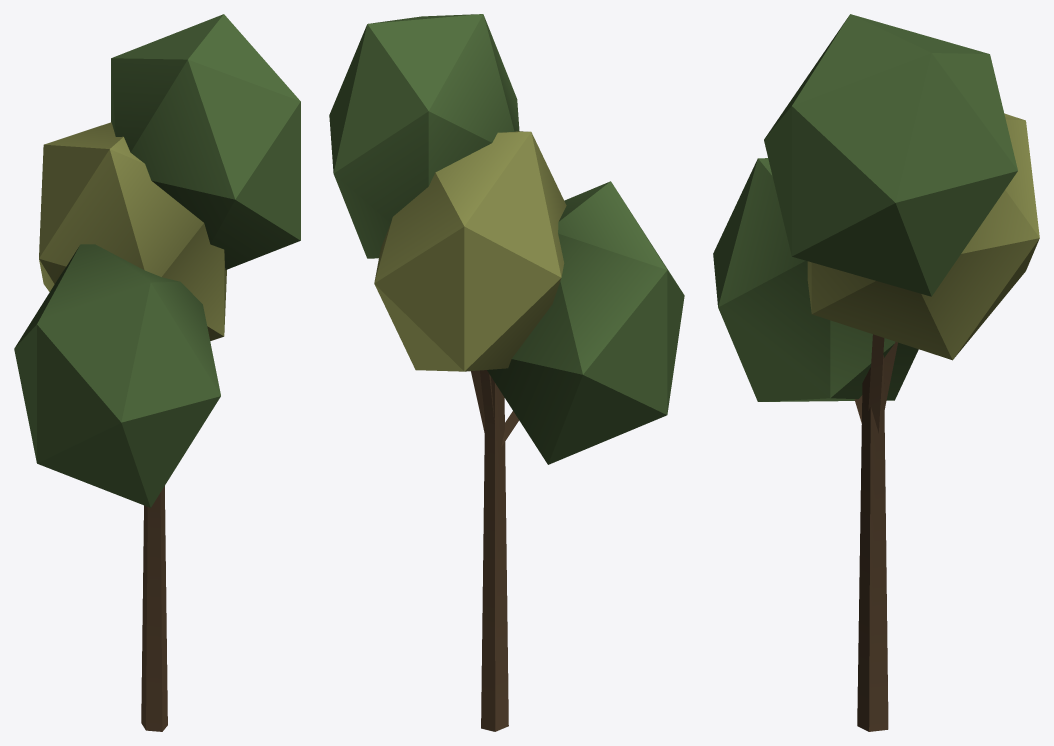
The model's file is tree-gum-2.glb.
3 renders of one model, left to right at view 1: azimuth 30°, elevation 25°; view 2: azimuth 150°, elevation 25°; view 3: azimuth 270°, elevation 25°, orthographic. The views are drawn at different scales.
Visible parts, largest first — view 1: tree-gum-2; view 2: tree-gum-2; view 3: tree-gum-2.
Part boxes in pixels (x1,y1,x2,y2): tree-gum-2: (14, 14, 300, 731); tree-gum-2: (329, 14, 684, 731); tree-gum-2: (713, 14, 1039, 731).
Bounding box in the file's own units: 10 × 22 × 9.
